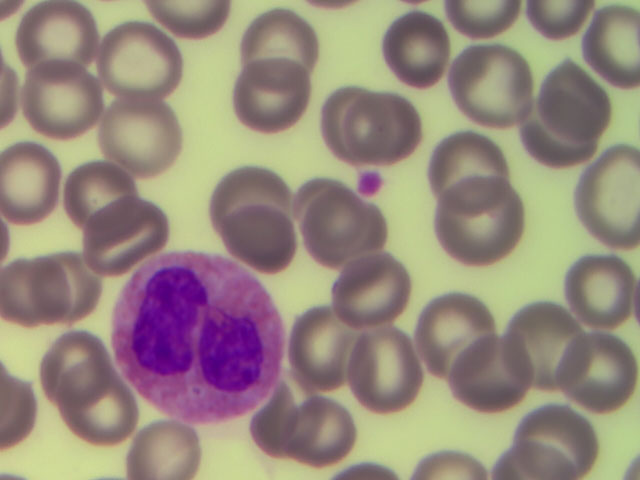Platelets: (359, 170, 383, 197)
RBC: (508, 307, 591, 388), (435, 185, 523, 259), (454, 48, 535, 124), (418, 302, 494, 380), (580, 148, 640, 243), (24, 62, 97, 137), (109, 99, 180, 173), (520, 405, 597, 473), (213, 169, 292, 234), (222, 206, 306, 267), (431, 134, 501, 207), (21, 4, 96, 72), (358, 324, 415, 413), (565, 342, 634, 413), (294, 305, 353, 388), (237, 61, 305, 132), (103, 30, 178, 94), (335, 256, 407, 322), (453, 345, 527, 407), (35, 250, 101, 319), (248, 11, 317, 77), (348, 98, 419, 162), (570, 259, 634, 329), (387, 12, 450, 83), (526, 105, 592, 170), (540, 69, 600, 140), (289, 401, 356, 464), (70, 210, 170, 251), (42, 334, 104, 400), (1, 260, 67, 321), (1, 148, 59, 217), (68, 164, 132, 221), (275, 384, 323, 459), (324, 91, 376, 160), (594, 8, 640, 86), (134, 426, 197, 480), (309, 200, 365, 259), (1, 361, 36, 447), (150, 1, 232, 34), (501, 444, 576, 480), (295, 178, 344, 229), (447, 1, 513, 34), (408, 458, 492, 480), (527, 1, 585, 29), (84, 405, 120, 445), (334, 459, 401, 480), (1, 53, 15, 129), (309, 1, 362, 9), (630, 458, 640, 480), (401, 1, 434, 5)
WBC: (130, 264, 260, 413)
